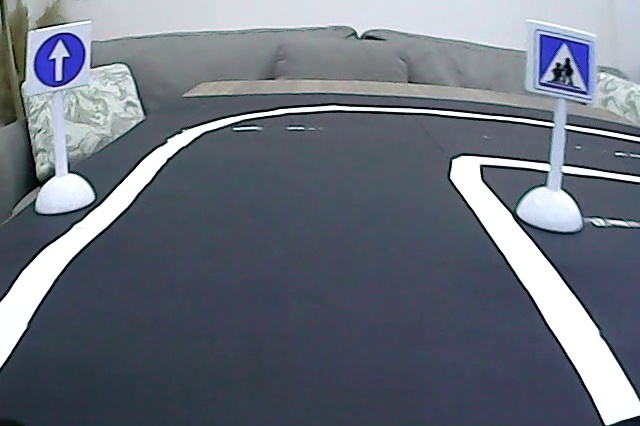school crossing: (533, 29, 594, 102)
